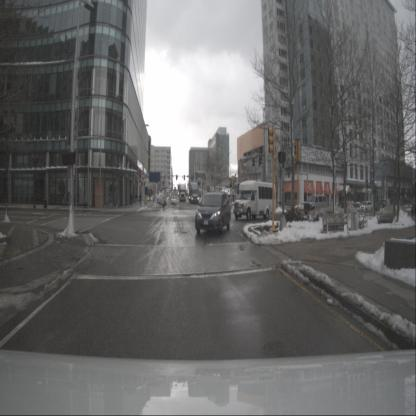human-pedestrian-adult: (139, 193, 142, 206), (130, 193, 133, 206), (135, 193, 138, 206), (149, 192, 151, 202), (152, 195, 154, 204)
vehicle-bus-rigid: (233, 180, 276, 221)
vehicle-car: (195, 192, 230, 233), (304, 194, 328, 216), (294, 201, 312, 213), (360, 200, 373, 214), (156, 197, 164, 207), (171, 196, 176, 204)
vehicle-truck: (190, 183, 199, 204), (179, 184, 186, 201)
